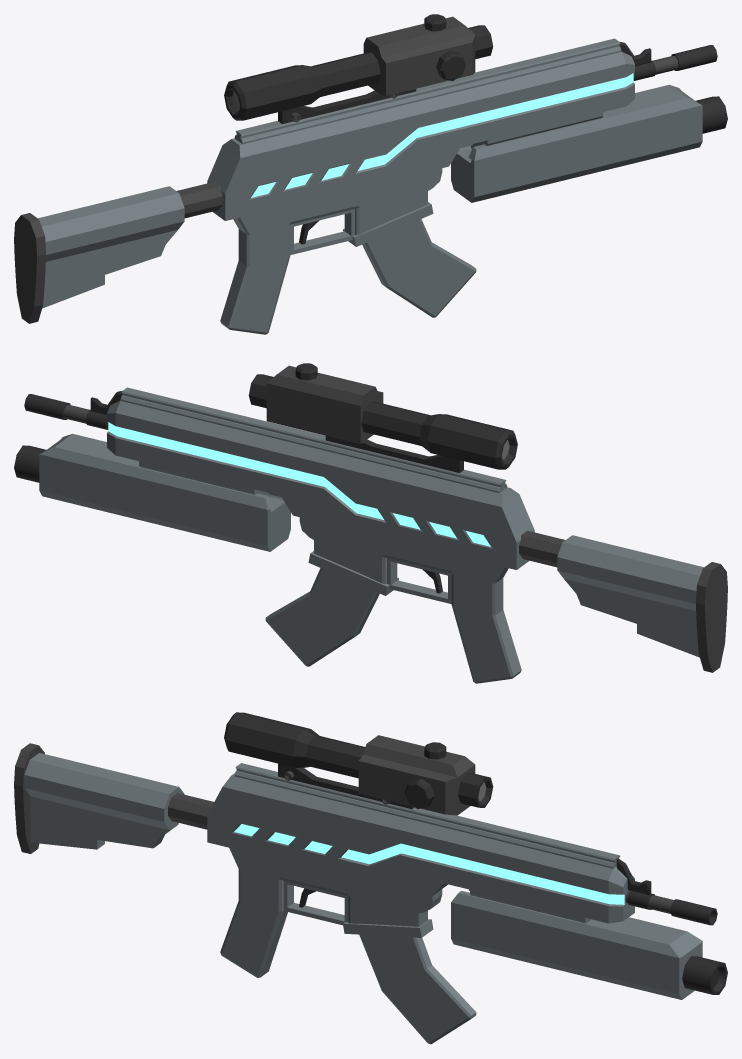
File: gun03.fbx
3 views of the same model, one above another, from view 1: azimuth 30°, elevation 25°; view 2: azimuth 150°, elevation 25°; view 3: azimuth 330°, elevation 25° (orthographic).
Visible parts, largest first — view 1: gun001; view 2: gun001; view 3: gun001.
Part boxes in pixels (x1,y1,x2,y2): gun001: (14,14,727,334); gun001: (14,363,727,683); gun001: (14,712,727,1044).
Bounding box in the file's own units: 72.46 × 29.66 × 5.53.
